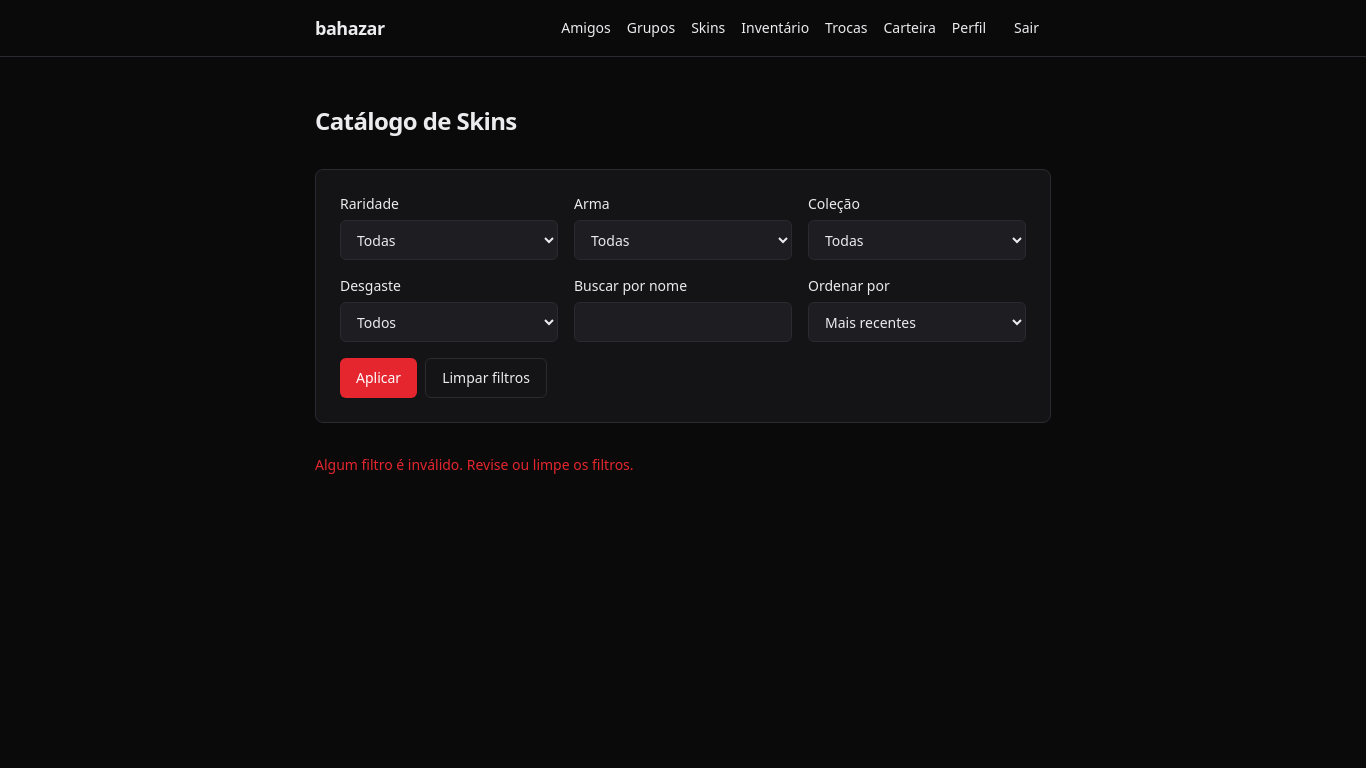
Scenario: SkinsPage: catálogo /skins › erros do servidor › um 400 (filtro inválido, ex.: URL editada à mão) não quebra a tela e dá como se recuperar
Expected: the message reads "Algum filtro é inválido. Revise ou limpe os filtros.", [315,455,634,474]
Expected: the heading "Catálogo de Skins" is shown, [315,104,517,137]
Click the button "Limpar filtros".
click(486, 378)  # box [425,358,547,398]
(page scrolled)
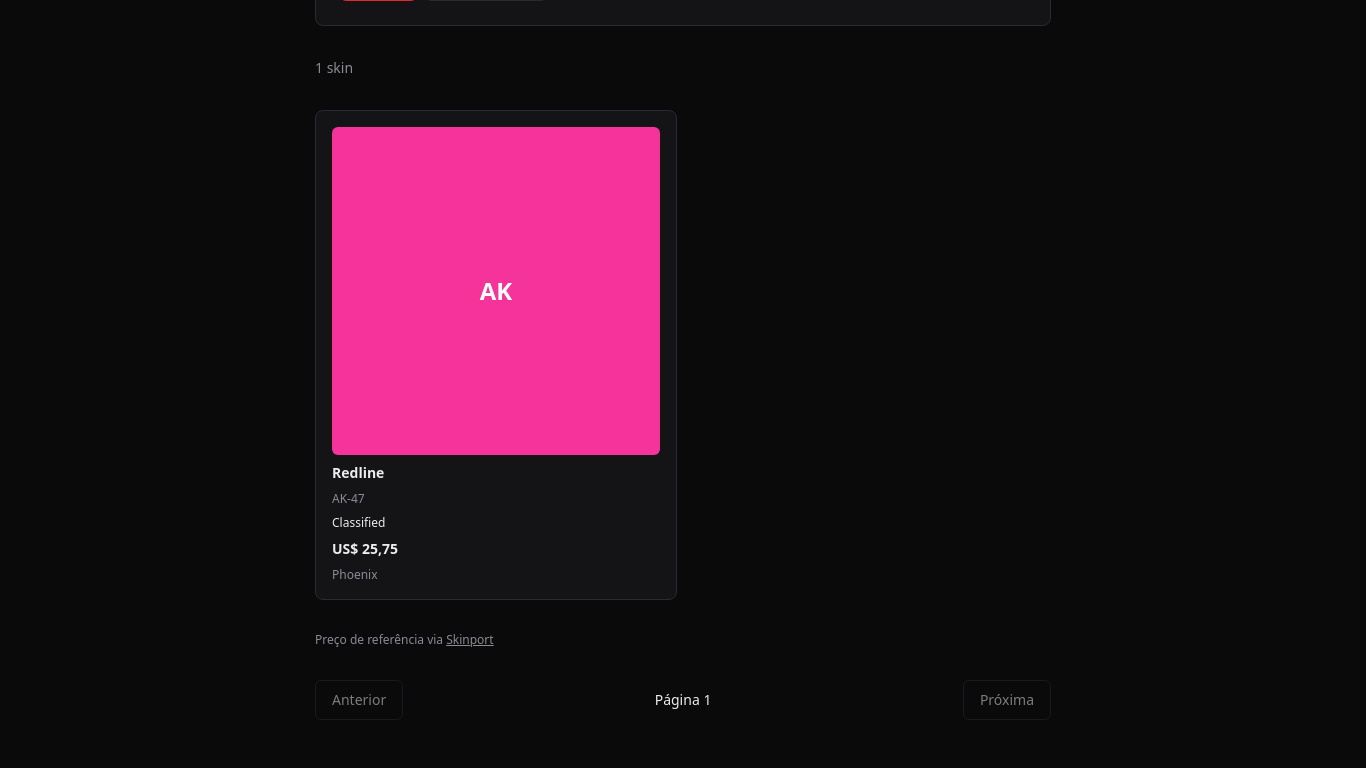
Result: the text "Redline" is shown at [332,463,384,482]
Result: the message "Algum filtro é inválido. Revise ou limpe os filtros." is gone
